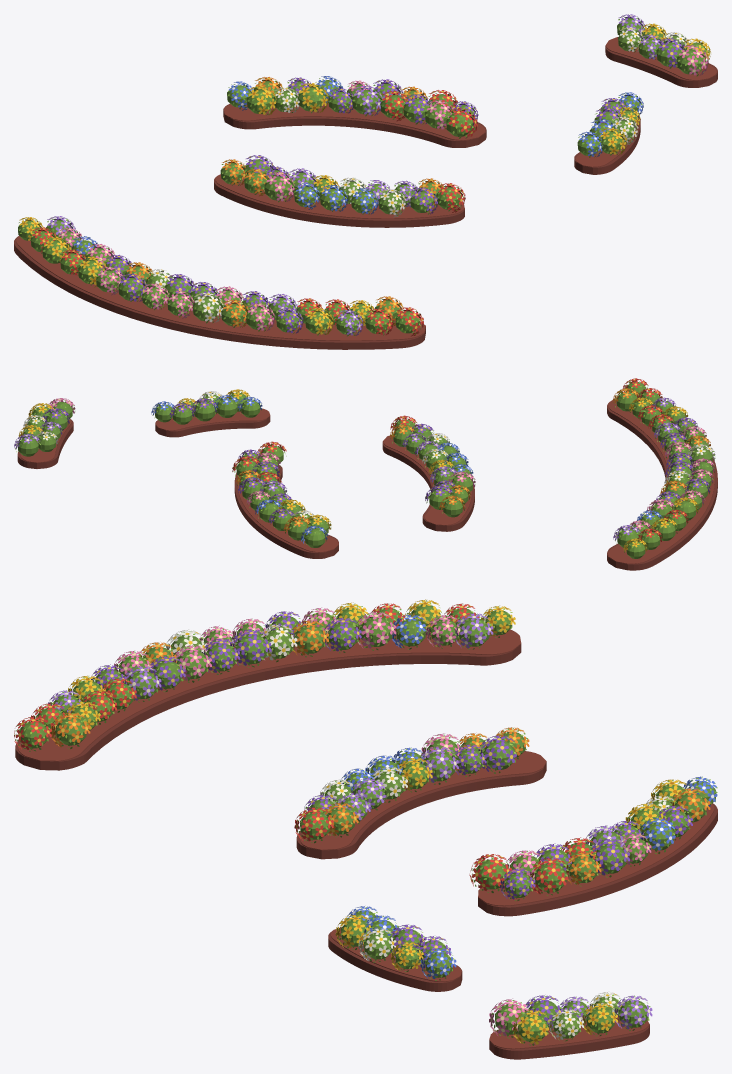
The model's file is flower-bed.glb.
The picture shows the model from 3 angles, top to bottom: view 1: azimuth 30°, elevation 25°; view 2: azimuth 150°, elevation 25°; view 3: azimuth 270°, elevation 25°; orthographic projection. The views are drawn at different scales.
Parts seen in each view (by area): view 1: bed-0, bed-1, bed-2, bed-3, bed-4; view 2: bed-0, bed-1, bed-2, bed-4, bed-3; view 3: bed-0, bed-1, bed-2, bed-3, bed-4.
Boxes of the visible parts, <box> form: bed-0: <box>14,216,425,349</box>; bed-1: <box>223,76,486,147</box>; bed-2: <box>214,155,465,227</box>; bed-3: <box>605,14,717,87</box>; bed-4: <box>574,92,643,174</box>; bed-0: <box>607,378,717,570</box>; bed-1: <box>232,441,338,558</box>; bed-2: <box>382,415,475,531</box>; bed-4: <box>151,389,270,437</box>; bed-3: <box>14,398,75,468</box>; bed-0: <box>14,599,521,770</box>; bed-1: <box>469,776,717,916</box>; bed-2: <box>294,727,546,859</box>; bed-3: <box>489,992,652,1059</box>; bed-4: <box>328,906,462,991</box>.
Bounding box in the file's own units: 15.64 × 0.7554 × 10.89.
